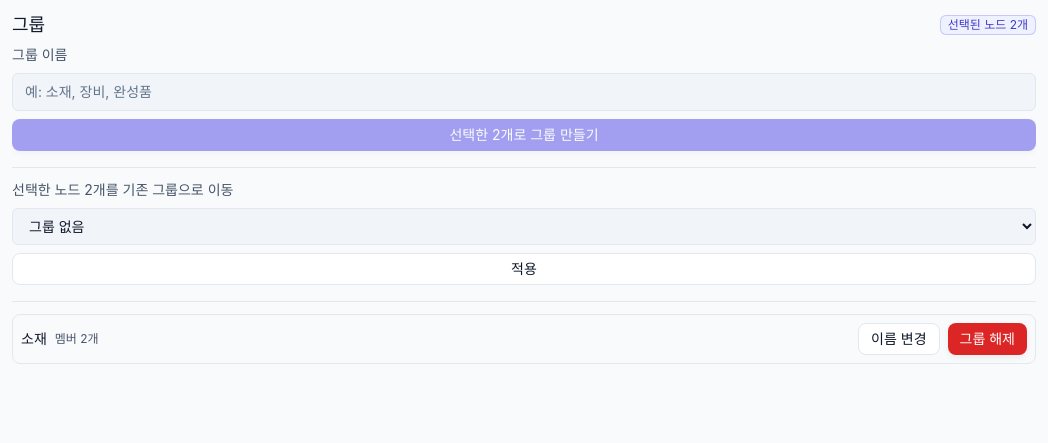
Test case: GroupPanel › 그룹 이름 변경(공백) → 인라인 오류 표시
Click the button "이름 변경" at x=899, y=339, box [858, 323, 940, 355]
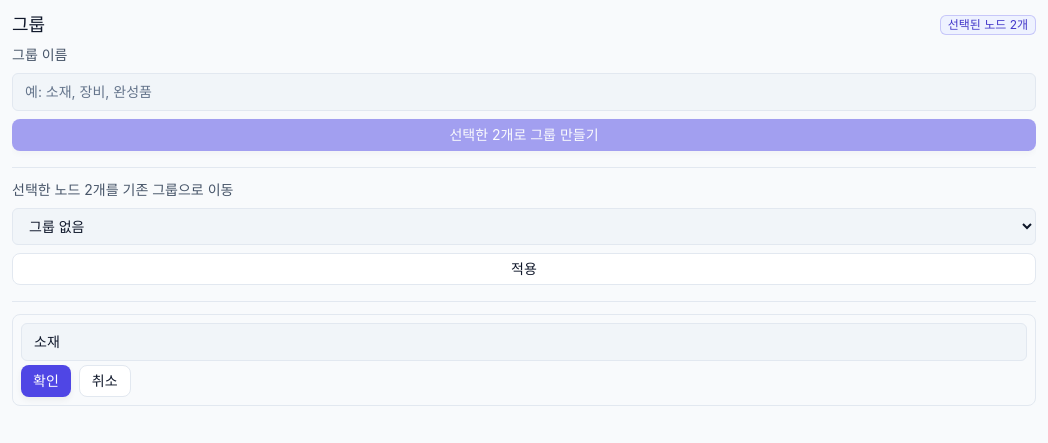
Clear the field showing "소재" at x=524, y=342, box [21, 323, 1027, 361]
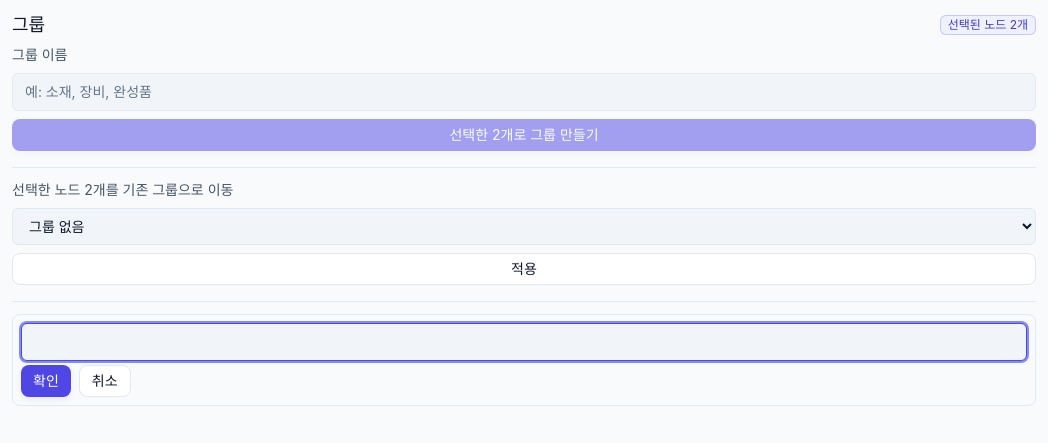
Click the button "확인" at x=46, y=381, box [21, 365, 71, 397]
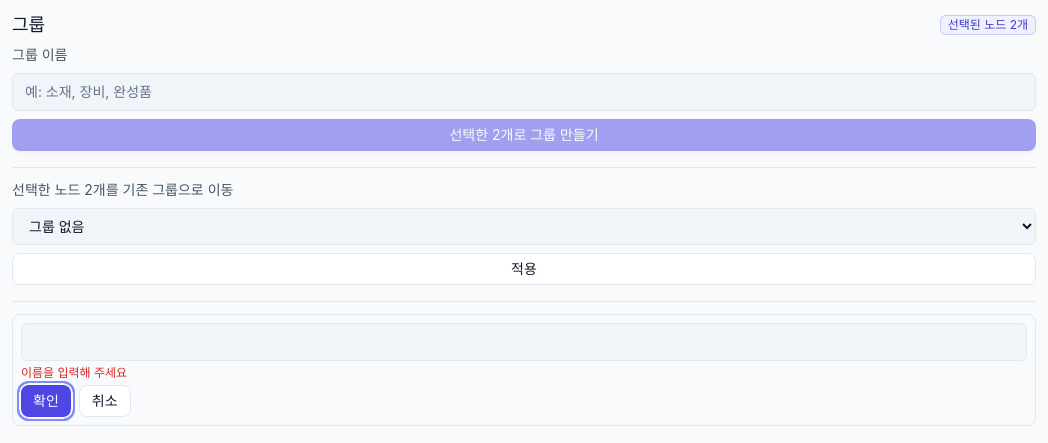
Result: the text "이름을 입력해 주세요" is shown at [21, 365, 127, 380]
